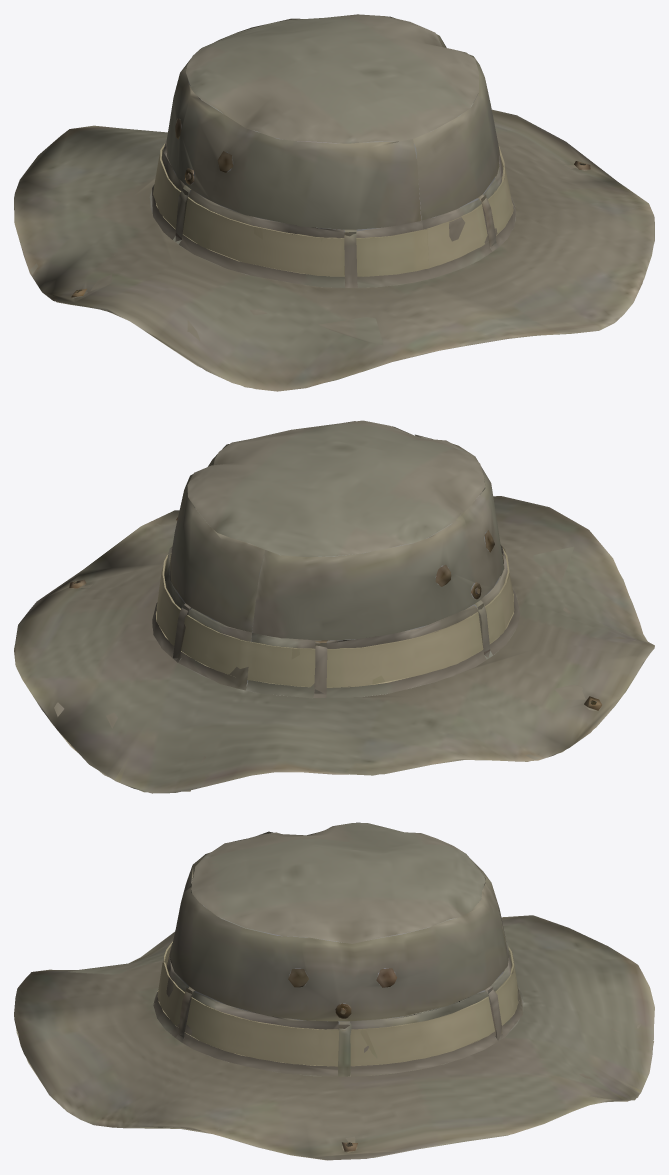
Rendered from fishermans_hat.glb.
3 renders of one model, top to bottom at view 1: azimuth 30°, elevation 25°; view 2: azimuth 150°, elevation 25°; view 3: azimuth 270°, elevation 25°, orthographic. The views are drawn at different scales.
Visible parts, largest first — view 1: fishermans_hat; view 2: fishermans_hat; view 3: fishermans_hat.
Part boxes in pixels (x1,y1,x2,y2): fishermans_hat: (14,14,654,391); fishermans_hat: (14,420,654,793); fishermans_hat: (14,822,654,1160).
Bounding box in the file's own units: 0.3239 × 0.1246 × 0.35.
Materials: 1 (1 with a texture image).
